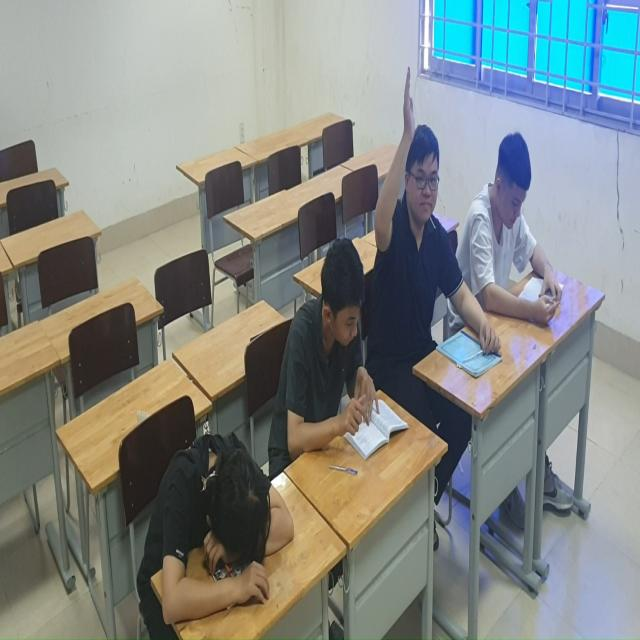raise_hand: (374, 60, 453, 376)
read: (275, 232, 410, 466), (460, 129, 568, 331)
sleep: (115, 430, 305, 633)
